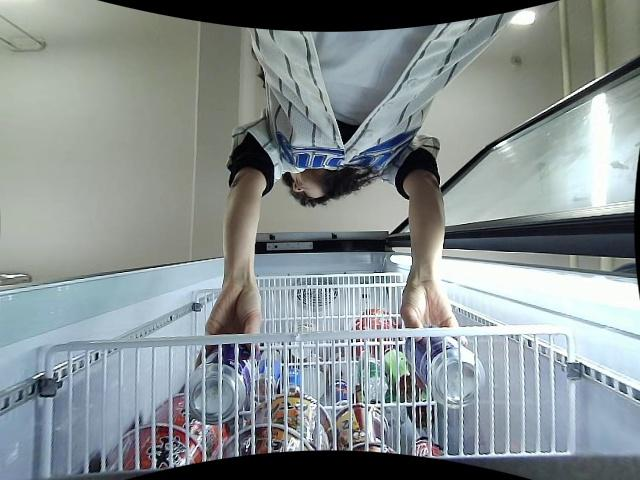00_hand: (192, 288, 264, 368), (401, 278, 468, 347)
14_welchsGrape: (404, 322, 484, 409), (190, 345, 259, 425)
